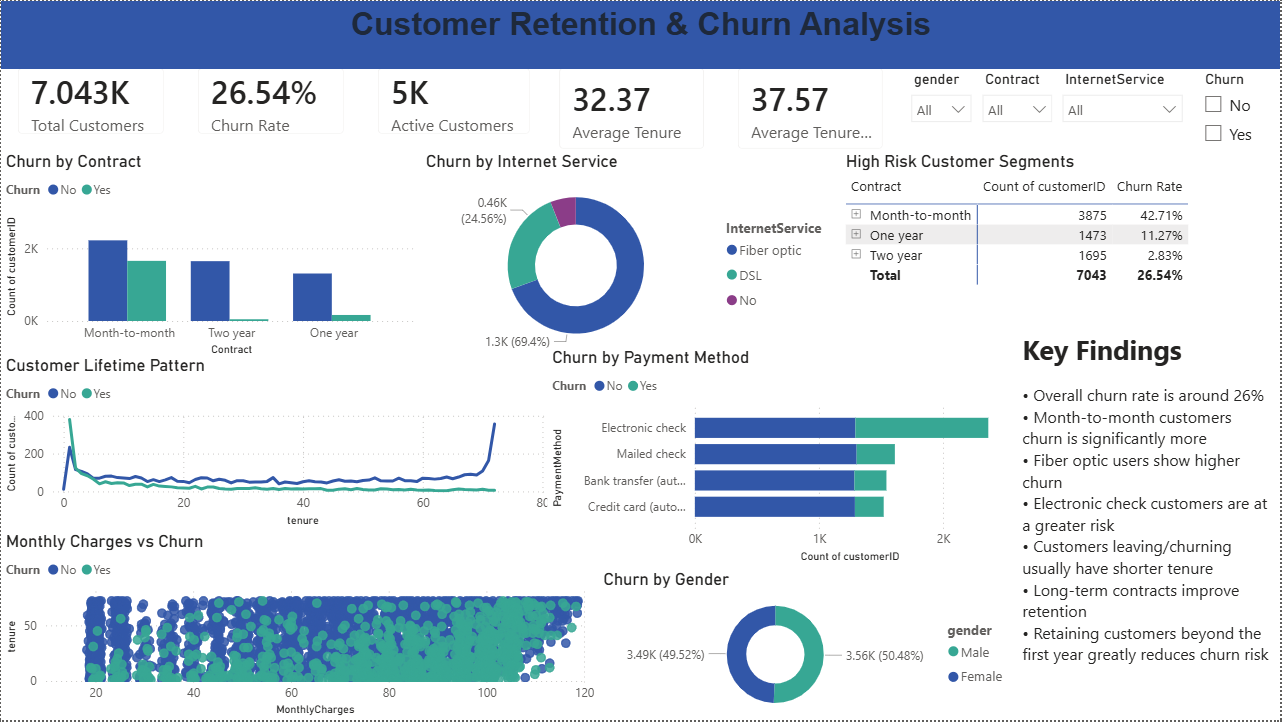

The dashboard page shown, as its layout file describes it:
{"tool":"powerbi","page":{"name":"Dashboard","canvas":[1280,720],"ordinal":0},"visuals":[{"type":"cardVisual","fields":{"Data":["Telco customer churn.Total Customers"]},"box":[0,50,180,100],"z":0},{"type":"cardVisual","fields":{"Data":["Telco customer churn.Churn Rate"]},"box":[180,50,180,100],"z":1000},{"type":"cardVisual","fields":{"Data":["Telco customer churn.Active Customers"]},"box":[359.5,49.4,186.6,100.2],"z":2000},{"type":"cardVisual","fields":{"Data":["Telco customer churn.Average Tenure"]},"box":[540.7,49.4,179.8,115.3],"z":3000},{"type":"cardVisual","fields":{"Data":["Telco customer churn.Average Tenure Active"]},"box":[720.4,49.4,179.8,115.3],"z":4000},{"type":"clusteredColumnChart","title":"Churn by Contract","fields":{"Category":["Telco customer churn.Contract"],"Series":["Telco customer churn.Churn"],"Y":["CountNonNull(Telco customer churn.customerID)"]},"box":[0,150,420,210],"z":5000},{"type":"donutChart","title":"Churn by Internet Service","fields":{"Category":["Telco customer churn.InternetService"],"Y":["CountNonNull(Telco customer churn.customerID)"]},"box":[420,150,420,210],"z":6000},{"type":"lineChart","title":"Customer Lifetime Pattern","fields":{"Category":["Telco customer churn.tenure"],"Y":["CountNonNull(Telco customer churn.customerID)"],"Series":["Telco customer churn.Churn"]},"box":[0,353.3,556.7,176.7],"z":7000},{"type":"pivotTable","title":"High Risk Customer Segments","fields":{"Rows":["Telco customer churn.Contract","Telco customer churn.InternetService"],"Values":["CountNonNull(Telco customer churn.customerID)","Telco customer churn.Churn Rate"]},"box":[840,150,440,175],"z":8000},{"type":"barChart","title":"Churn by Payment Method","fields":{"Category":["Telco customer churn.PaymentMethod"],"Series":["Telco customer churn.Churn"],"Y":["CountNonNull(Telco customer churn.customerID)"]},"box":[546.7,346.7,470,220],"z":9000},{"type":"scatterChart","title":"Monthly Charges vs Churn","fields":{"X":["Telco customer churn.MonthlyCharges"],"Y":["Telco customer churn.tenure"],"Series":["Telco customer churn.Churn"]},"box":[0,530,598.3,190],"z":10000},{"type":"slicer","fields":{"Values":["Telco customer churn.gender"]},"box":[900,65,80,60],"z":11000},{"type":"slicer","fields":{"Values":["Telco customer churn.Contract"]},"box":[971.7,65,90,60],"z":12000},{"type":"slicer","fields":{"Values":["Telco customer churn.InternetService"]},"box":[1051.7,65,140,60],"z":13000},{"type":"slicer","fields":{"Values":["Telco customer churn.Churn"]},"box":[1191.7,65,80,100],"z":14000},{"type":"textbox","box":[1016.7,325,263.3,395],"z":15000},{"type":"textbox","box":[0,0,1280,68.3],"z":16000},{"type":"donutChart","title":"Churn by Gender","fields":{"Category":["Telco customer churn.gender"],"Y":["CountNonNull(Telco customer churn.Churn)"]},"box":[598,567,419,153],"z":17000}]}

Visuals, with their boxes in screenshot pixels (x1, y1, x2, y2), scaled from the page's 1280x720 canvas onto the 1282x722 screenshot:
cardVisual - Telco customer churn.Total Customers: pyautogui.locateOnScreen(0, 50, 180, 150)
cardVisual - Telco customer churn.Churn Rate: pyautogui.locateOnScreen(180, 50, 361, 150)
cardVisual - Telco customer churn.Active Customers: pyautogui.locateOnScreen(360, 50, 547, 150)
cardVisual - Telco customer churn.Average Tenure: pyautogui.locateOnScreen(542, 50, 722, 165)
cardVisual - Telco customer churn.Average Tenure Active: pyautogui.locateOnScreen(722, 50, 902, 165)
"Churn by Contract" clusteredColumnChart: pyautogui.locateOnScreen(0, 150, 421, 361)
"Churn by Internet Service" donutChart: pyautogui.locateOnScreen(421, 150, 841, 361)
"Customer Lifetime Pattern" lineChart: pyautogui.locateOnScreen(0, 354, 558, 531)
"High Risk Customer Segments" pivotTable: pyautogui.locateOnScreen(841, 150, 1281, 326)
"Churn by Payment Method" barChart: pyautogui.locateOnScreen(548, 348, 1018, 568)
"Monthly Charges vs Churn" scatterChart: pyautogui.locateOnScreen(0, 531, 599, 721)
slicer - Telco customer churn.gender: pyautogui.locateOnScreen(901, 65, 982, 125)
slicer - Telco customer churn.Contract: pyautogui.locateOnScreen(973, 65, 1063, 125)
slicer - Telco customer churn.InternetService: pyautogui.locateOnScreen(1053, 65, 1194, 125)
slicer - Telco customer churn.Churn: pyautogui.locateOnScreen(1194, 65, 1274, 165)
textbox: pyautogui.locateOnScreen(1018, 326, 1281, 721)
textbox: pyautogui.locateOnScreen(0, 0, 1281, 68)
"Churn by Gender" donutChart: pyautogui.locateOnScreen(599, 569, 1019, 721)
